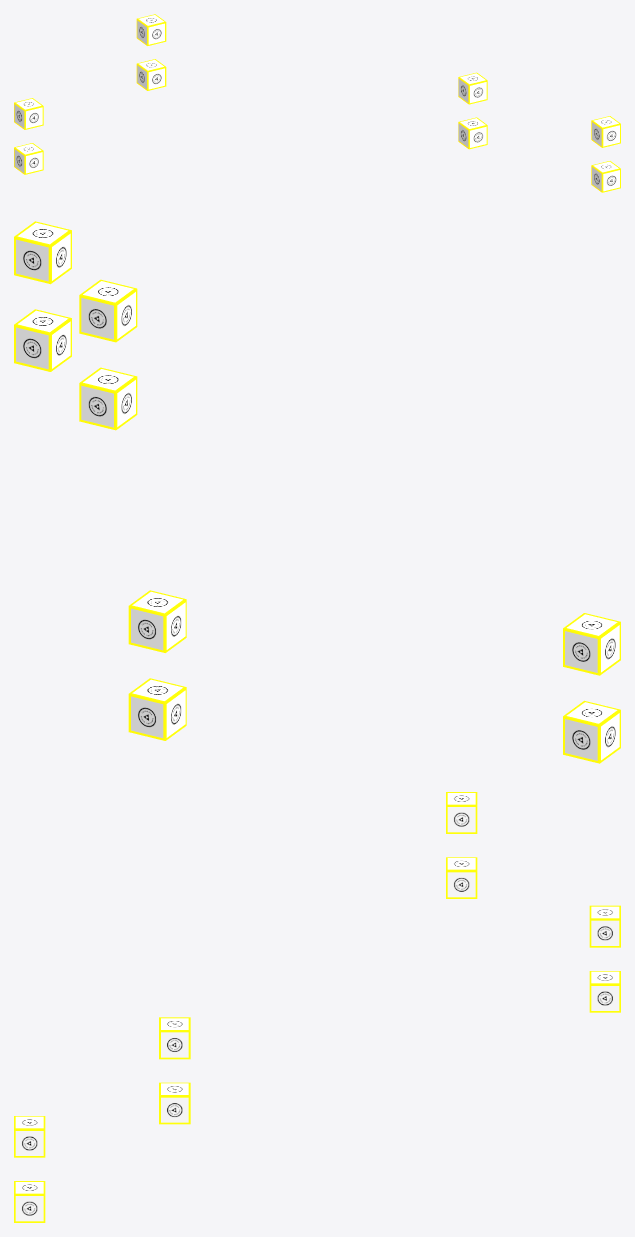
Rendered from PremiumCubes.glb.
The picture shows the model from 3 angles, top to bottom: view 1: azimuth 30°, elevation 25°; view 2: azimuth 150°, elevation 25°; view 3: azimuth 270°, elevation 25°; orthographic projection. The views are drawn at different scales.
Visible parts, largest first — view 1: Cube15, Cube16, Cube2, Cube3, Cube17, Cube4, Cube1, Cube18; view 2: Cube4, Cube16, Cube3, Cube15, Cube2, Cube18, Cube1, Cube17; view 3: Cube3, Cube4, Cube15, Cube1, Cube2, Cube17, Cube18, Cube16.
Part boxes in pixels (x1,y1,x2,y2): Cube15: (136,14,166,45); Cube16: (136,59,166,90); Cube2: (591,116,620,147); Cube3: (458,117,487,149); Cube17: (14,98,43,129); Cube4: (458,72,487,104); Cube1: (591,161,620,192); Cube18: (14,143,43,174); Cube4: (79,279,137,342); Cube16: (128,678,186,740); Cube3: (79,367,137,430); Cube15: (128,590,186,652); Cube2: (14,221,71,284); Cube18: (563,700,620,763); Cube1: (14,309,71,371); Cube17: (563,613,620,675); Cube3: (159,1082,190,1124); Cube4: (159,1017,190,1059); Cube15: (589,905,620,947); Cube1: (14,1181,45,1222); Cube2: (14,1116,45,1157); Cube17: (446,792,477,833); Cube18: (446,857,477,898); Cube16: (589,971,620,1012).
Size of what is drawn, in the model's own units: 83.54 by 16.34 by 67.56.
9 materials, 8 textured.
